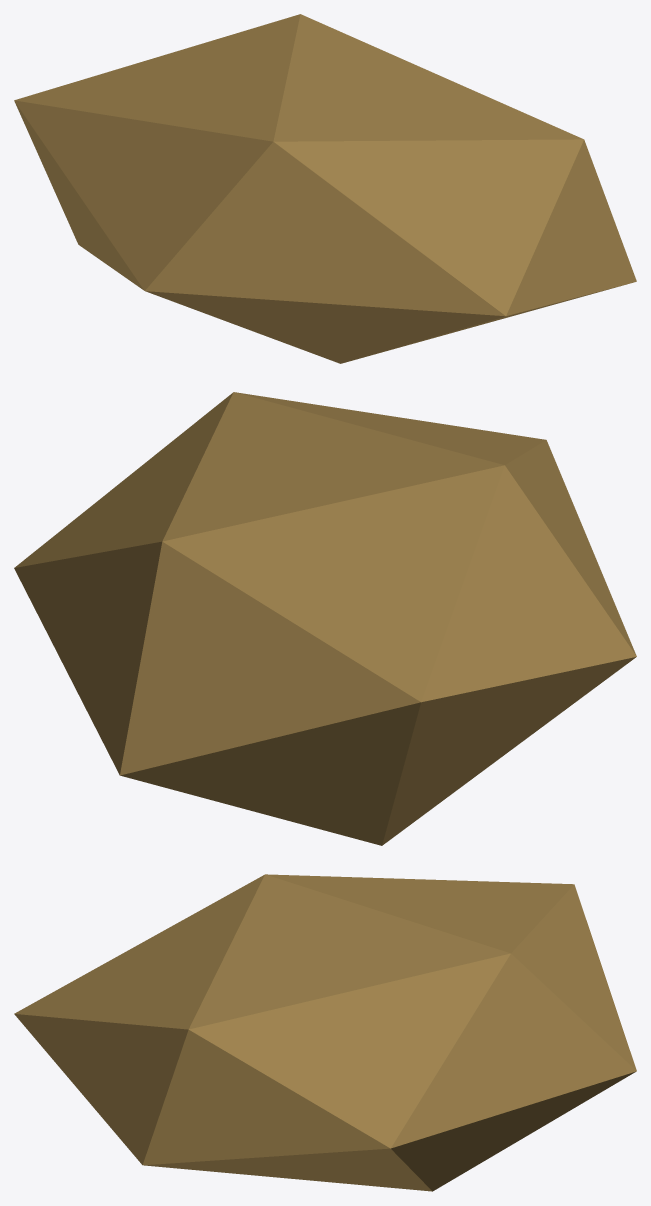
Rendered from rock-small-orange.fbx.
3 views of the same model, one above another, from view 1: azimuth 30°, elevation 25°; view 2: azimuth 150°, elevation 25°; view 3: azimuth 270°, elevation 25° (orthographic). The views are drawn at different scales.
Parts seen in each view (by area): view 1: rock_small_orange; view 2: rock_small_orange; view 3: rock_small_orange.
Boxes of the visible parts, x1=… form: rock_small_orange: x1=14, y1=14, x2=636, y2=363; rock_small_orange: x1=14, y1=392, x2=636, y2=845; rock_small_orange: x1=14, y1=874, x2=636, y2=1191.
Bounding box in the file's own units: 0.9929 × 0.4858 × 1.22.
